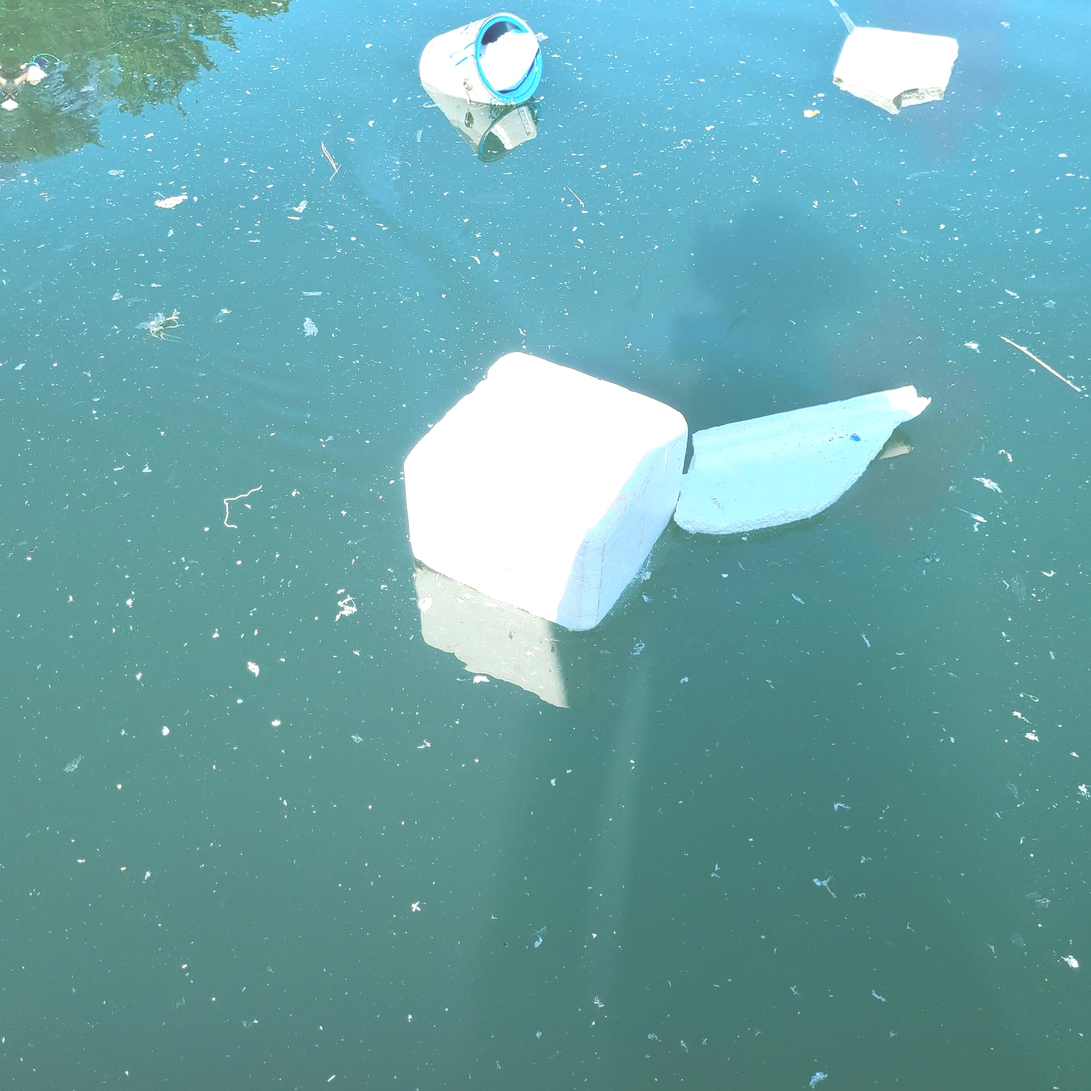sampah_terapung: (404, 352, 689, 631), (673, 385, 932, 534), (834, 28, 959, 100), (479, 33, 537, 92)
